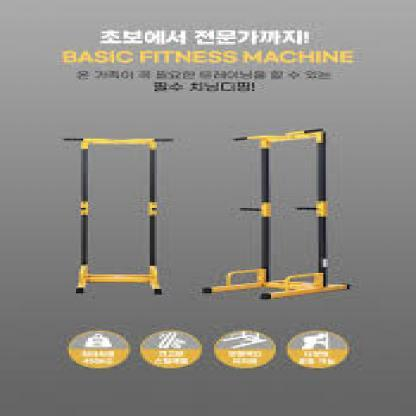chinning dipping: (200, 126, 353, 301), (62, 137, 177, 295)
